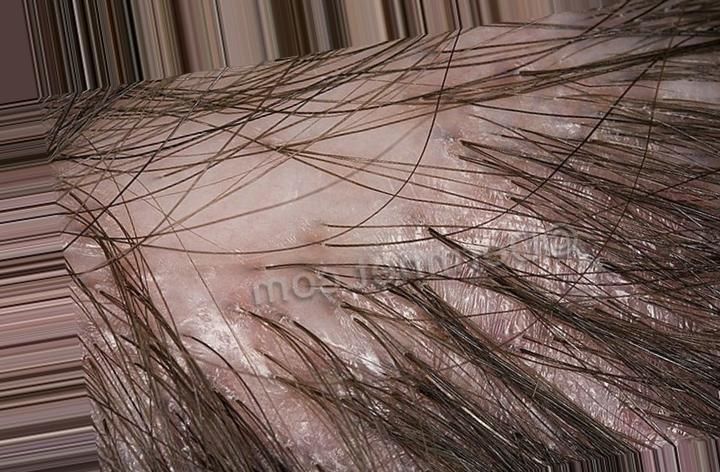Folliculitis: (129, 115, 486, 380)
